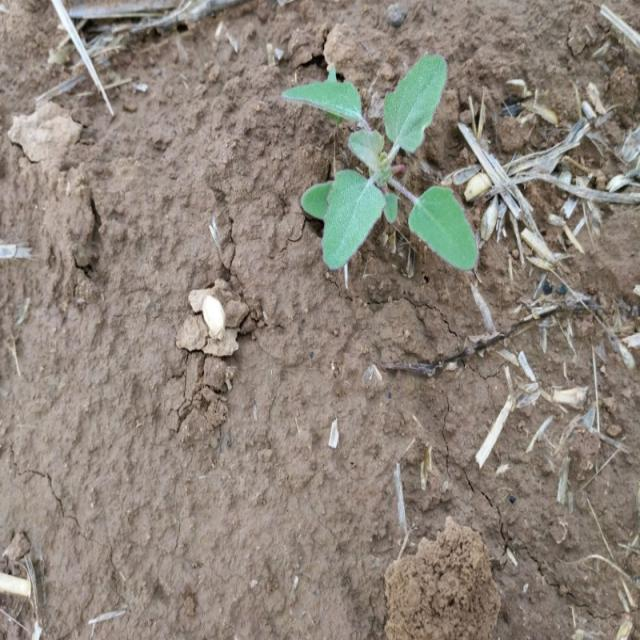goosefoots: (282, 46, 478, 272)
